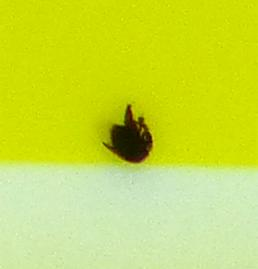Hymenoptera: (100, 100, 158, 169)
